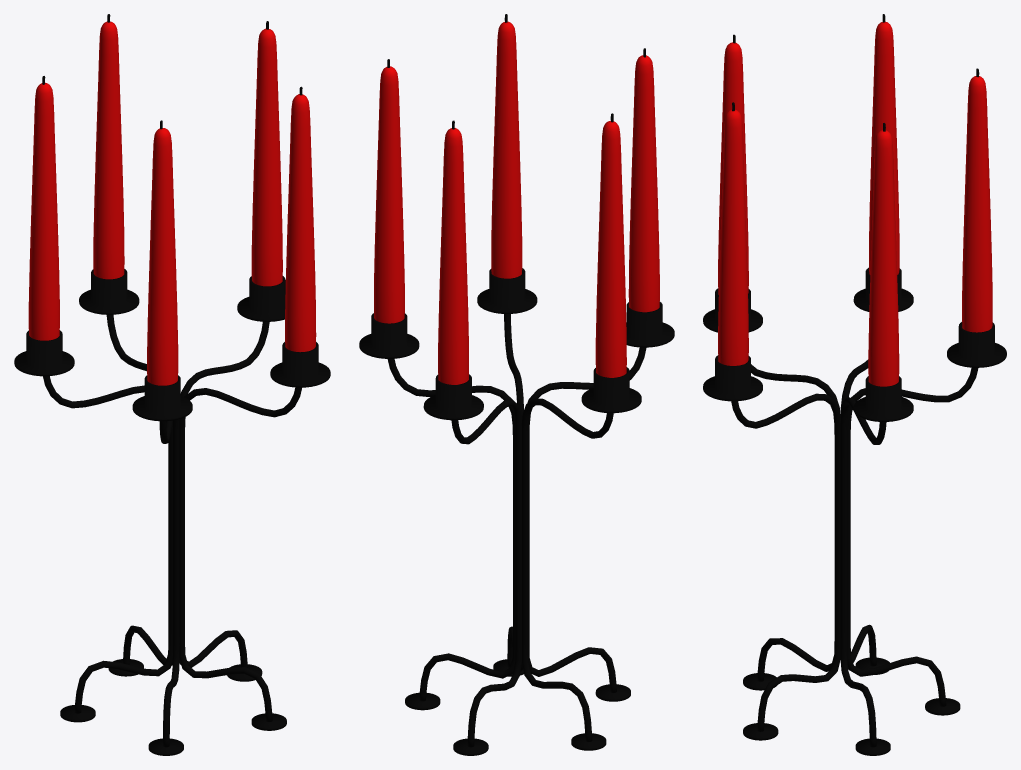
File: 5_Point_Candle_Holder_With_Candles_01.03.fbx
3 renders of one model, left to right at view 1: azimuth 30°, elevation 25°; view 2: azimuth 150°, elevation 25°; view 3: azimuth 270°, elevation 25°, orthographic.
Parts seen in each view (by area): view 1: CandleHolder, Candle.01, Candle.05, Candle.03, Candle.02, Candle.04; view 2: CandleHolder, Candle.04, Candle.02, Candle.03, Candle.05, Candle.01; view 3: CandleHolder, Candle.05, Candle.01, Candle.04, Candle.02, Candle.03.
Boxes of the visible parts, left/top/right/bottom form: CandleHolder: left=14, top=269, right=330, bottom=755; Candle.01: left=93, top=21, right=124, bottom=279; Candle.05: left=251, top=28, right=282, bottom=286; Candle.03: left=147, top=128, right=178, bottom=385; Candle.02: left=28, top=82, right=59, bottom=340; Candle.04: left=285, top=94, right=316, bottom=352; CandleHolder: left=359, top=268, right=674, bottom=755; Candle.04: left=491, top=21, right=522, bottom=278; Candle.02: left=595, top=121, right=626, bottom=377; Candle.03: left=628, top=55, right=659, bottom=312; Candle.05: left=374, top=66, right=404, bottom=323; Candle.01: left=438, top=128, right=468, bottom=384; CandleHolder: left=703, top=267, right=1006, bottom=755; Candle.05: left=868, top=130, right=899, bottom=386; Candle.01: left=962, top=76, right=992, bottom=332; Candle.04: left=718, top=109, right=748, bottom=365; Candle.02: left=869, top=21, right=899, bottom=274; Candle.03: left=718, top=42, right=748, bottom=294.
Bounding box in the file's own units: 22.97 × 22.07 × 51.24.
